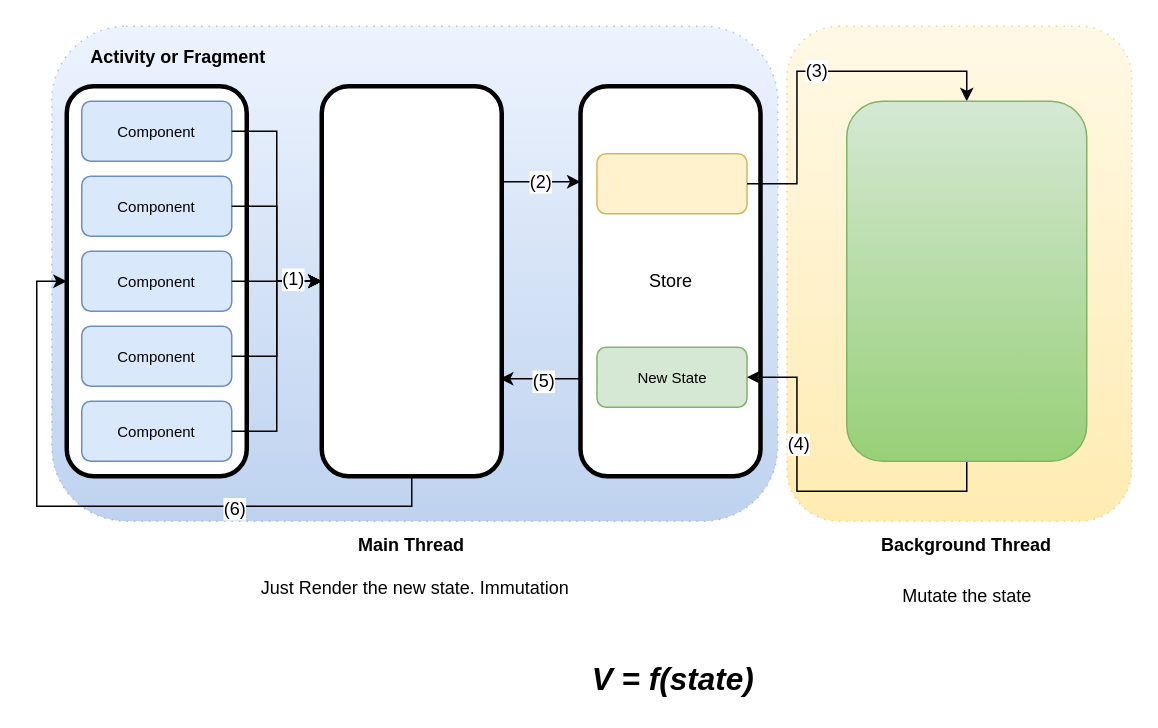
Image size: 1158x728. Some labels were removed from this diagram. Each missing label, with the centre of its shape:
"Mutation" goes at pixel 966 280.
"State" goes at pixel 671 183.
"ViewModel" goes at pixel 411 280.
